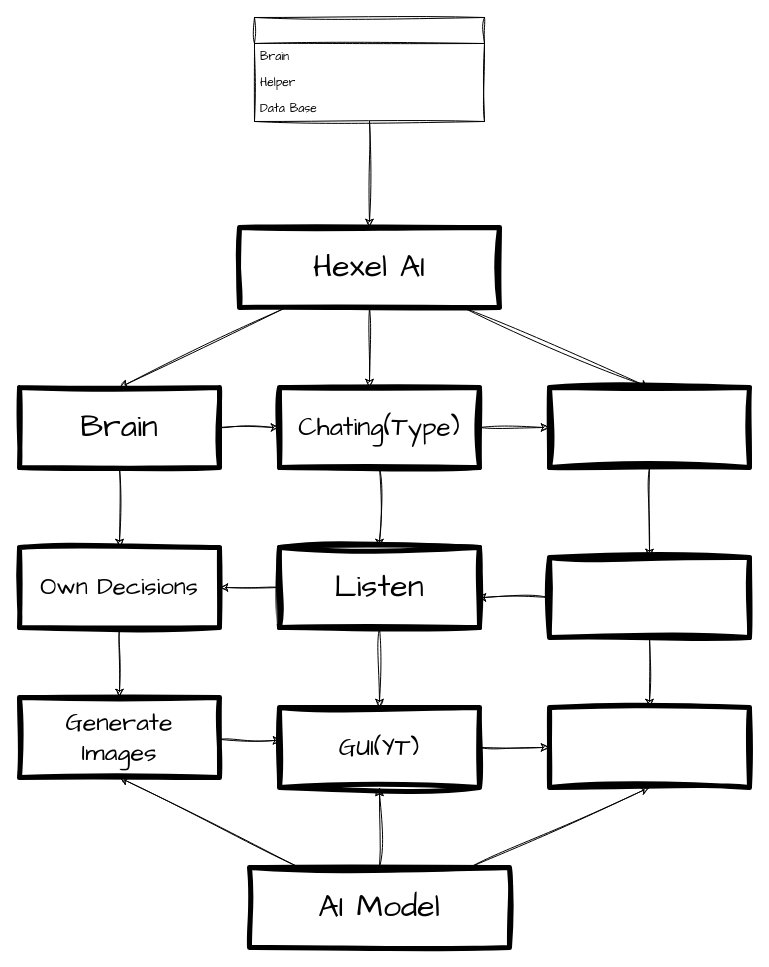
Some shapes in this 769 by 967 pixel diagram are drawn without their labels. The shapes that lost their labels are listed below. From the top down, each one's box as (x1, y1, x2, y2) in pixels, then its label:
(254, 16, 484, 122): First Project of AI
(546, 384, 752, 470): Knowldege of real world
(546, 554, 752, 640): Talk
(546, 704, 752, 790): Save Data
